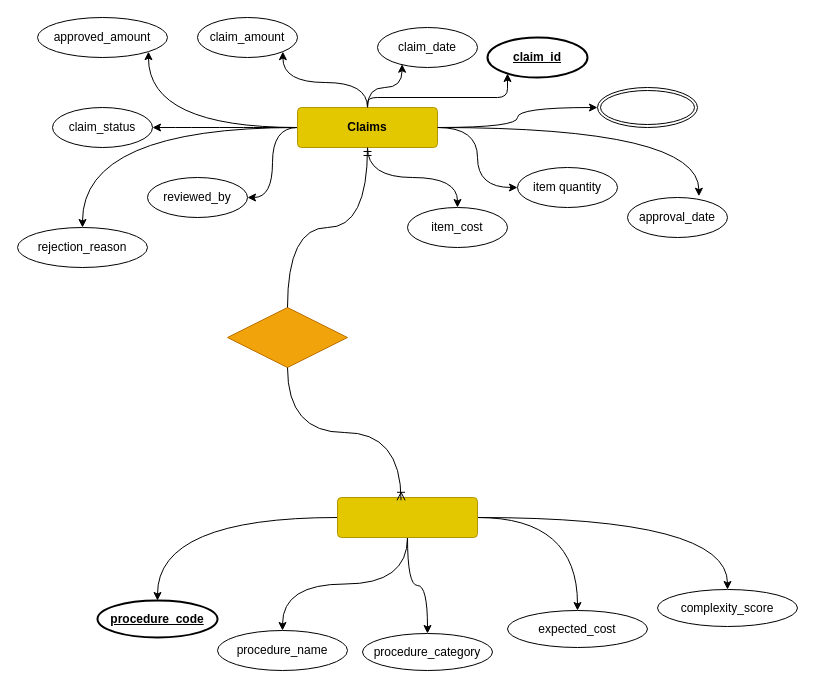
Image size: 815x688. Some labels were removed from this diagram. The centre of each missing label's shape, as x and y in pixels:
"billed proc" belongs at pixel 287 337.
"claim_items" belongs at pixel 647 107.
"procedures" belongs at pixel 407 517.
